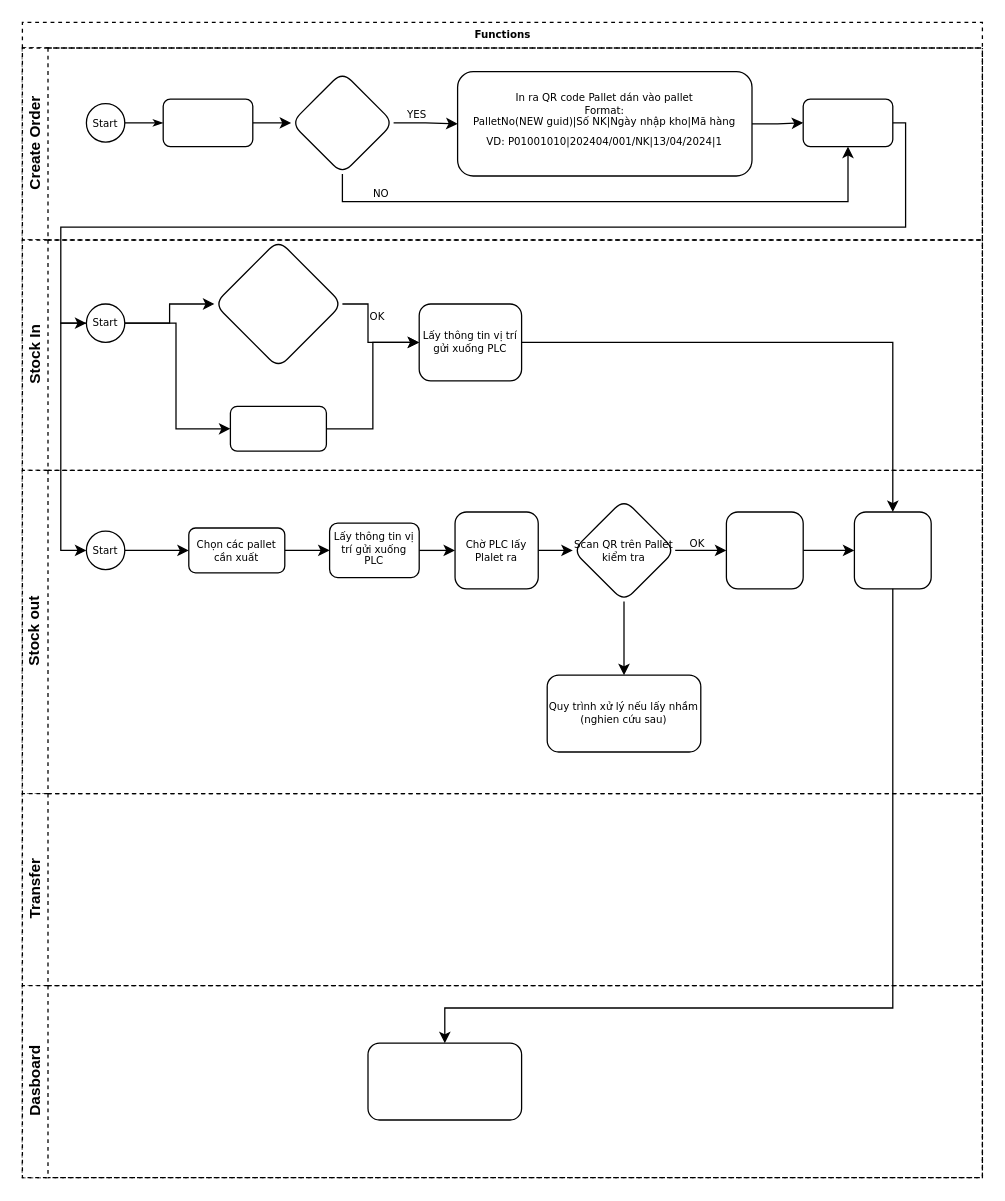
Image size: 1005x1201. Some labels were removed from this diagram. Each missing label, with the centre of its shape:
"Chờ trạng thái PLC gửi về để cập nhật lại dasboard" belongs at (892,550).
"Confirm trên web" belongs at (277,428).
"Cập nhật bằng hightLight trên từng cell theo trạng thái" belongs at (444,1081).
"Scan QR code trên Pallet để bắt đầu (confirm)" belongs at (277,303).
"Stock In?" belongs at (342,122).
"Tạo Order" belongs at (207,122).
"Xuất hàng, Lưu thông tin" belongs at (764,550).
"Đưa vào hàng chờ lệnh để đẩy xuống PLC" belongs at (847,122).
